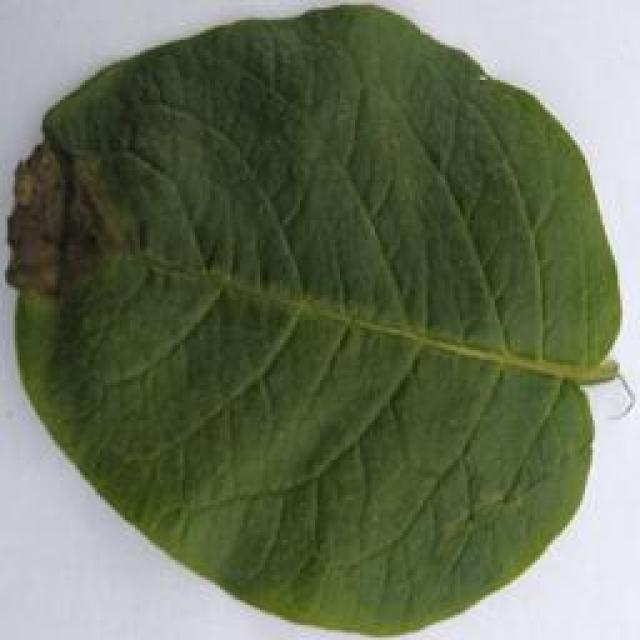Potato_Late_Blight: (3, 7, 614, 634)
